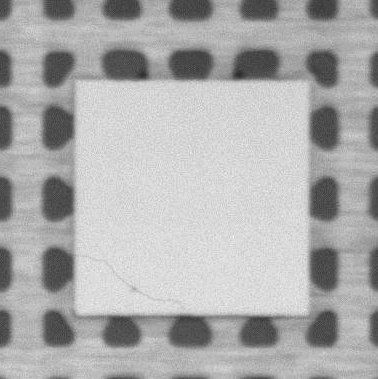DIE_CRACK: (79, 255, 184, 303)
